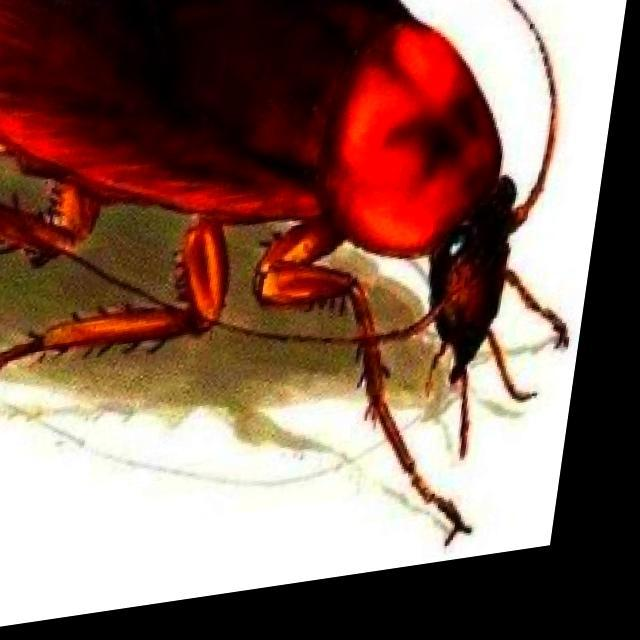cockroach: (2, 2, 573, 550)
